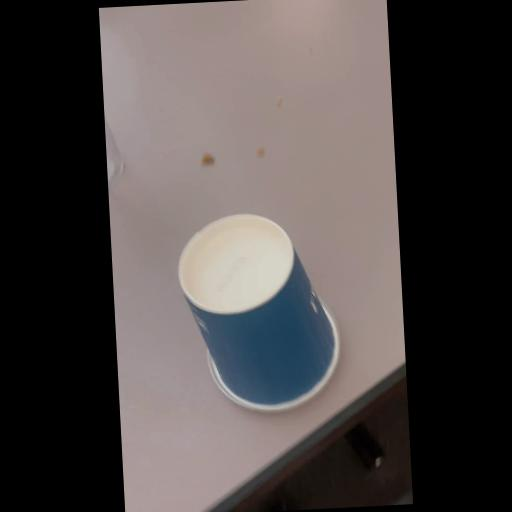lp_paper_cup: (177, 202, 348, 440)
